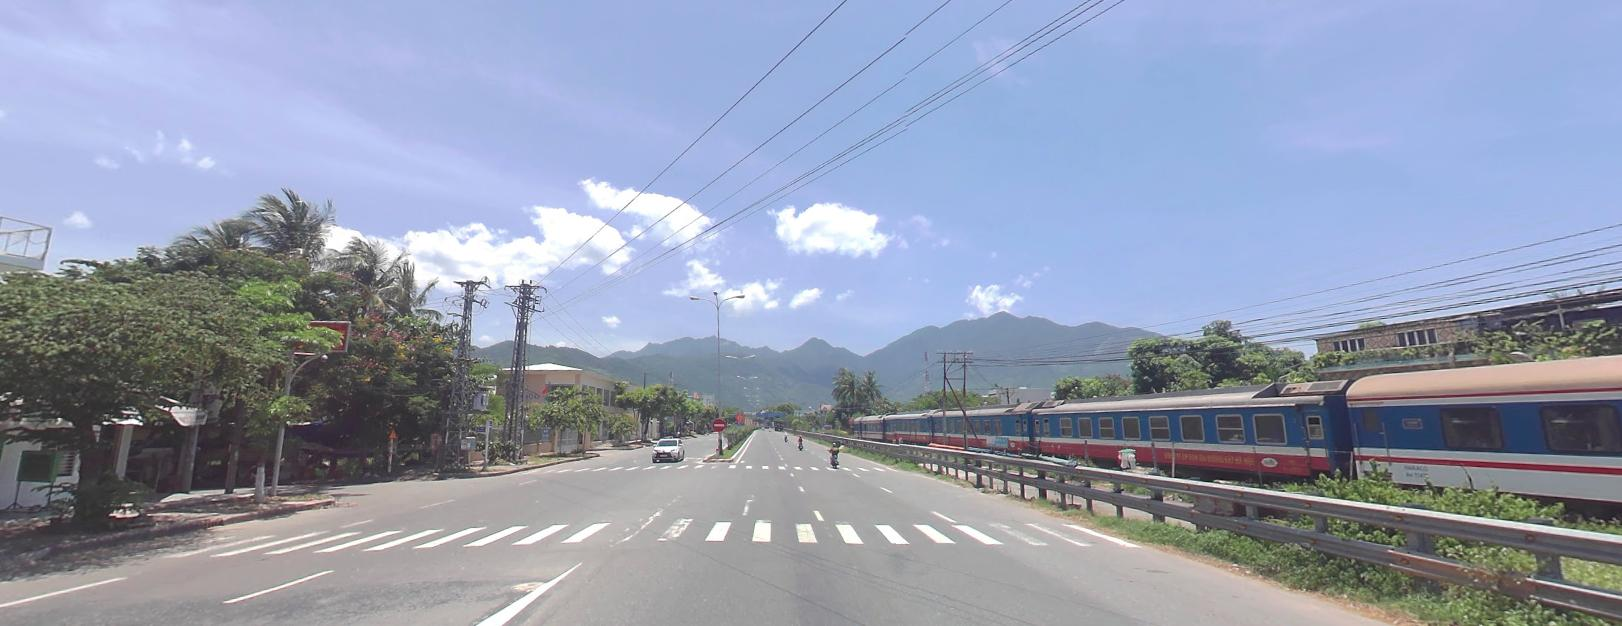Cam nguoc chieu: (713, 417, 725, 430)
